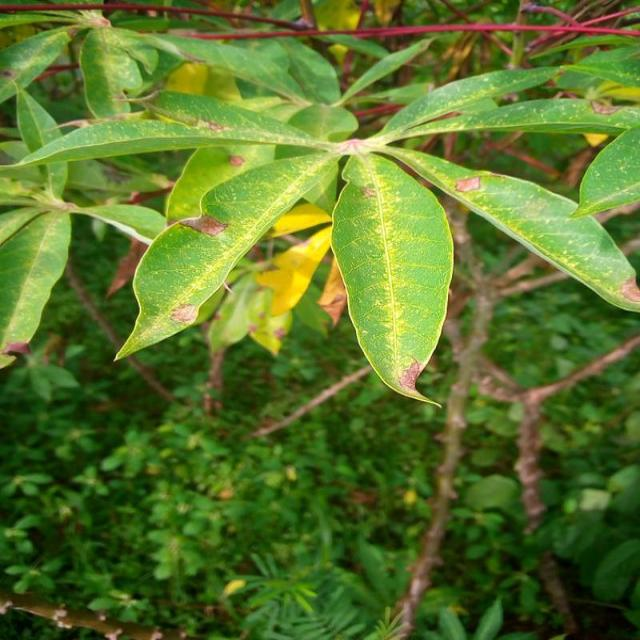cassava leaf: (329, 148, 454, 408)
